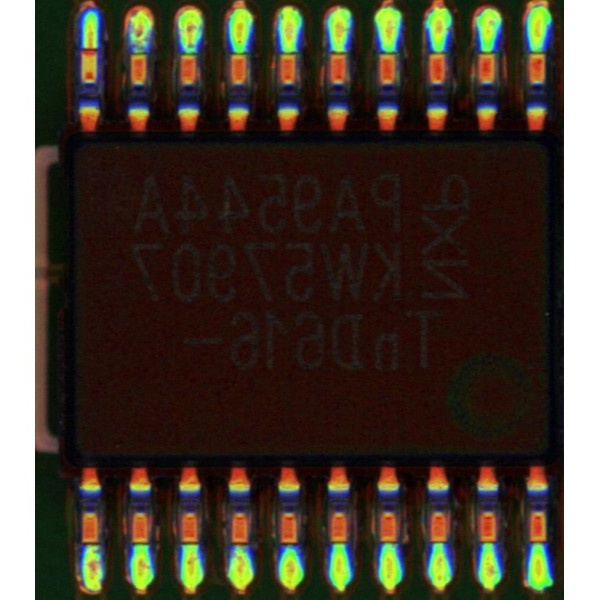Bad_podu: (83, 40, 96, 58)
